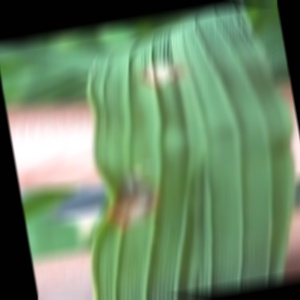Brown_Spot: (106, 161, 180, 234), (132, 49, 198, 100)
